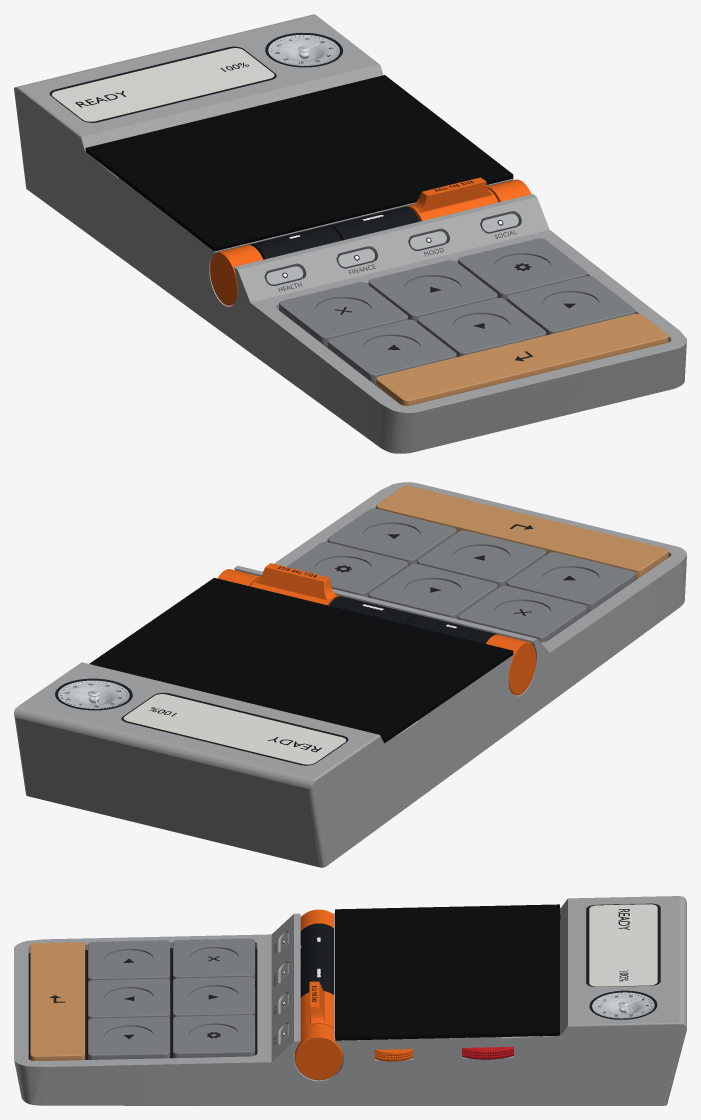
The model's file is aluminium-device-game2.5.glb.
3 renders of one model, top to bottom at view 1: azimuth 30°, elevation 25°; view 2: azimuth 150°, elevation 25°; view 3: azimuth 270°, elevation 25°, orthographic. The views are drawn at different scales.
Parts seen in each view (by area): view 1: Device • recessed 6 mm channel, Screen • black glass • 96 × 40 × 1 mm, Key • far right • full-size warm orange, E-ink • paper display • two-thirds width, Key • column 2 • lower grey, Key • column 2 • upper grey, Key • column 3 • upper grey, Key • column 3 • lower grey, Key • column 4 • lower grey, Key • column 4 • upper grey, Button • middle 4 • integrated pull fin, Button • left end • 5 mm (+4 smaller); view 2: Device • recessed 6 mm channel, Screen • black glass • 96 × 40 × 1 mm, Key • far right • full-size warm orange, E-ink • paper display • two-thirds width, Key • column 2 • lower grey, Key • column 2 • upper grey, Key • column 3 • upper grey, Key • column 3 • lower grey, Key • column 4 • lower grey, Key • column 4 • upper grey, Button • middle 4 • integrated pull fin, Watch • sculpted silver bowl (+4 smaller); view 3: Device • recessed 6 mm channel, Screen • black glass • 96 × 40 × 1 mm, Key • far right • full-size warm orange, E-ink • paper display • two-thirds width, Key • column 4 • lower grey, Key • column 4 • upper grey, Key • column 2 • lower grey, Key • column 3 • lower grey, Key • column 3 • upper grey, Key • column 2 • upper grey, Button • right end • 5 mm, Keypad • recessed black surround (+8 smaller).
Part boxes in pixels (bbox=[...]): Device • recessed 6 mm channel: bbox=[14, 14, 686, 453]; Screen • black glass • 96 × 40 × 1 mm: bbox=[85, 75, 513, 251]; Key • far right • full-size warm orange: bbox=[376, 313, 668, 405]; E-ink • paper display • two-thirds width: bbox=[52, 48, 274, 121]; Key • column 2 • lower grey: bbox=[327, 319, 456, 384]; Key • column 2 • upper grey: bbox=[279, 282, 407, 347]; Key • column 3 • upper grey: bbox=[368, 260, 497, 322]; Key • column 3 • lower grey: bbox=[417, 297, 546, 356]; Key • column 4 • lower grey: bbox=[506, 276, 635, 335]; Key • column 4 • upper grey: bbox=[458, 238, 587, 300]; Button • middle 4 • integrated pull fin: bbox=[406, 177, 498, 221]; Button • left end • 5 mm: bbox=[210, 245, 263, 305]; Device • recessed 6 mm channel: bbox=[14, 482, 686, 867]; Screen • black glass • 96 × 40 × 1 mm: bbox=[89, 577, 513, 743]; Key • far right • full-size warm orange: bbox=[376, 485, 668, 579]; E-ink • paper display • two-thirds width: bbox=[123, 694, 346, 764]; Key • column 2 • lower grey: bbox=[506, 552, 635, 613]; Key • column 2 • upper grey: bbox=[458, 585, 587, 642]; Key • column 3 • upper grey: bbox=[368, 563, 497, 619]; Key • column 3 • lower grey: bbox=[417, 530, 546, 587]; Key • column 4 • lower grey: bbox=[327, 508, 456, 566]; Key • column 4 • upper grey: bbox=[286, 542, 407, 597]; Button • middle 4 • integrated pull fin: bbox=[250, 563, 339, 605]; Watch • sculpted silver bowl: bbox=[58, 680, 129, 708]; Device • recessed 6 mm channel: bbox=[14, 896, 686, 1105]; Screen • black glass • 96 × 40 × 1 mm: bbox=[335, 904, 560, 1040]; Key • far right • full-size warm orange: bbox=[30, 942, 85, 1060]; E-ink • paper display • two-thirds width: bbox=[589, 904, 657, 986]; Key • column 4 • lower grey: bbox=[88, 1016, 170, 1059]; Key • column 4 • upper grey: bbox=[173, 1015, 255, 1058]; Key • column 2 • lower grey: bbox=[88, 940, 170, 983]; Key • column 3 • lower grey: bbox=[88, 978, 170, 1021]; Key • column 3 • upper grey: bbox=[173, 976, 255, 1018]; Key • column 2 • upper grey: bbox=[173, 938, 255, 980]; Button • right end • 5 mm: bbox=[295, 1024, 342, 1080]; Keypad • recessed black surround: bbox=[28, 947, 257, 1059].
Size of the model in its own units: 0.0557 by 0.0165 by 0.1213.
